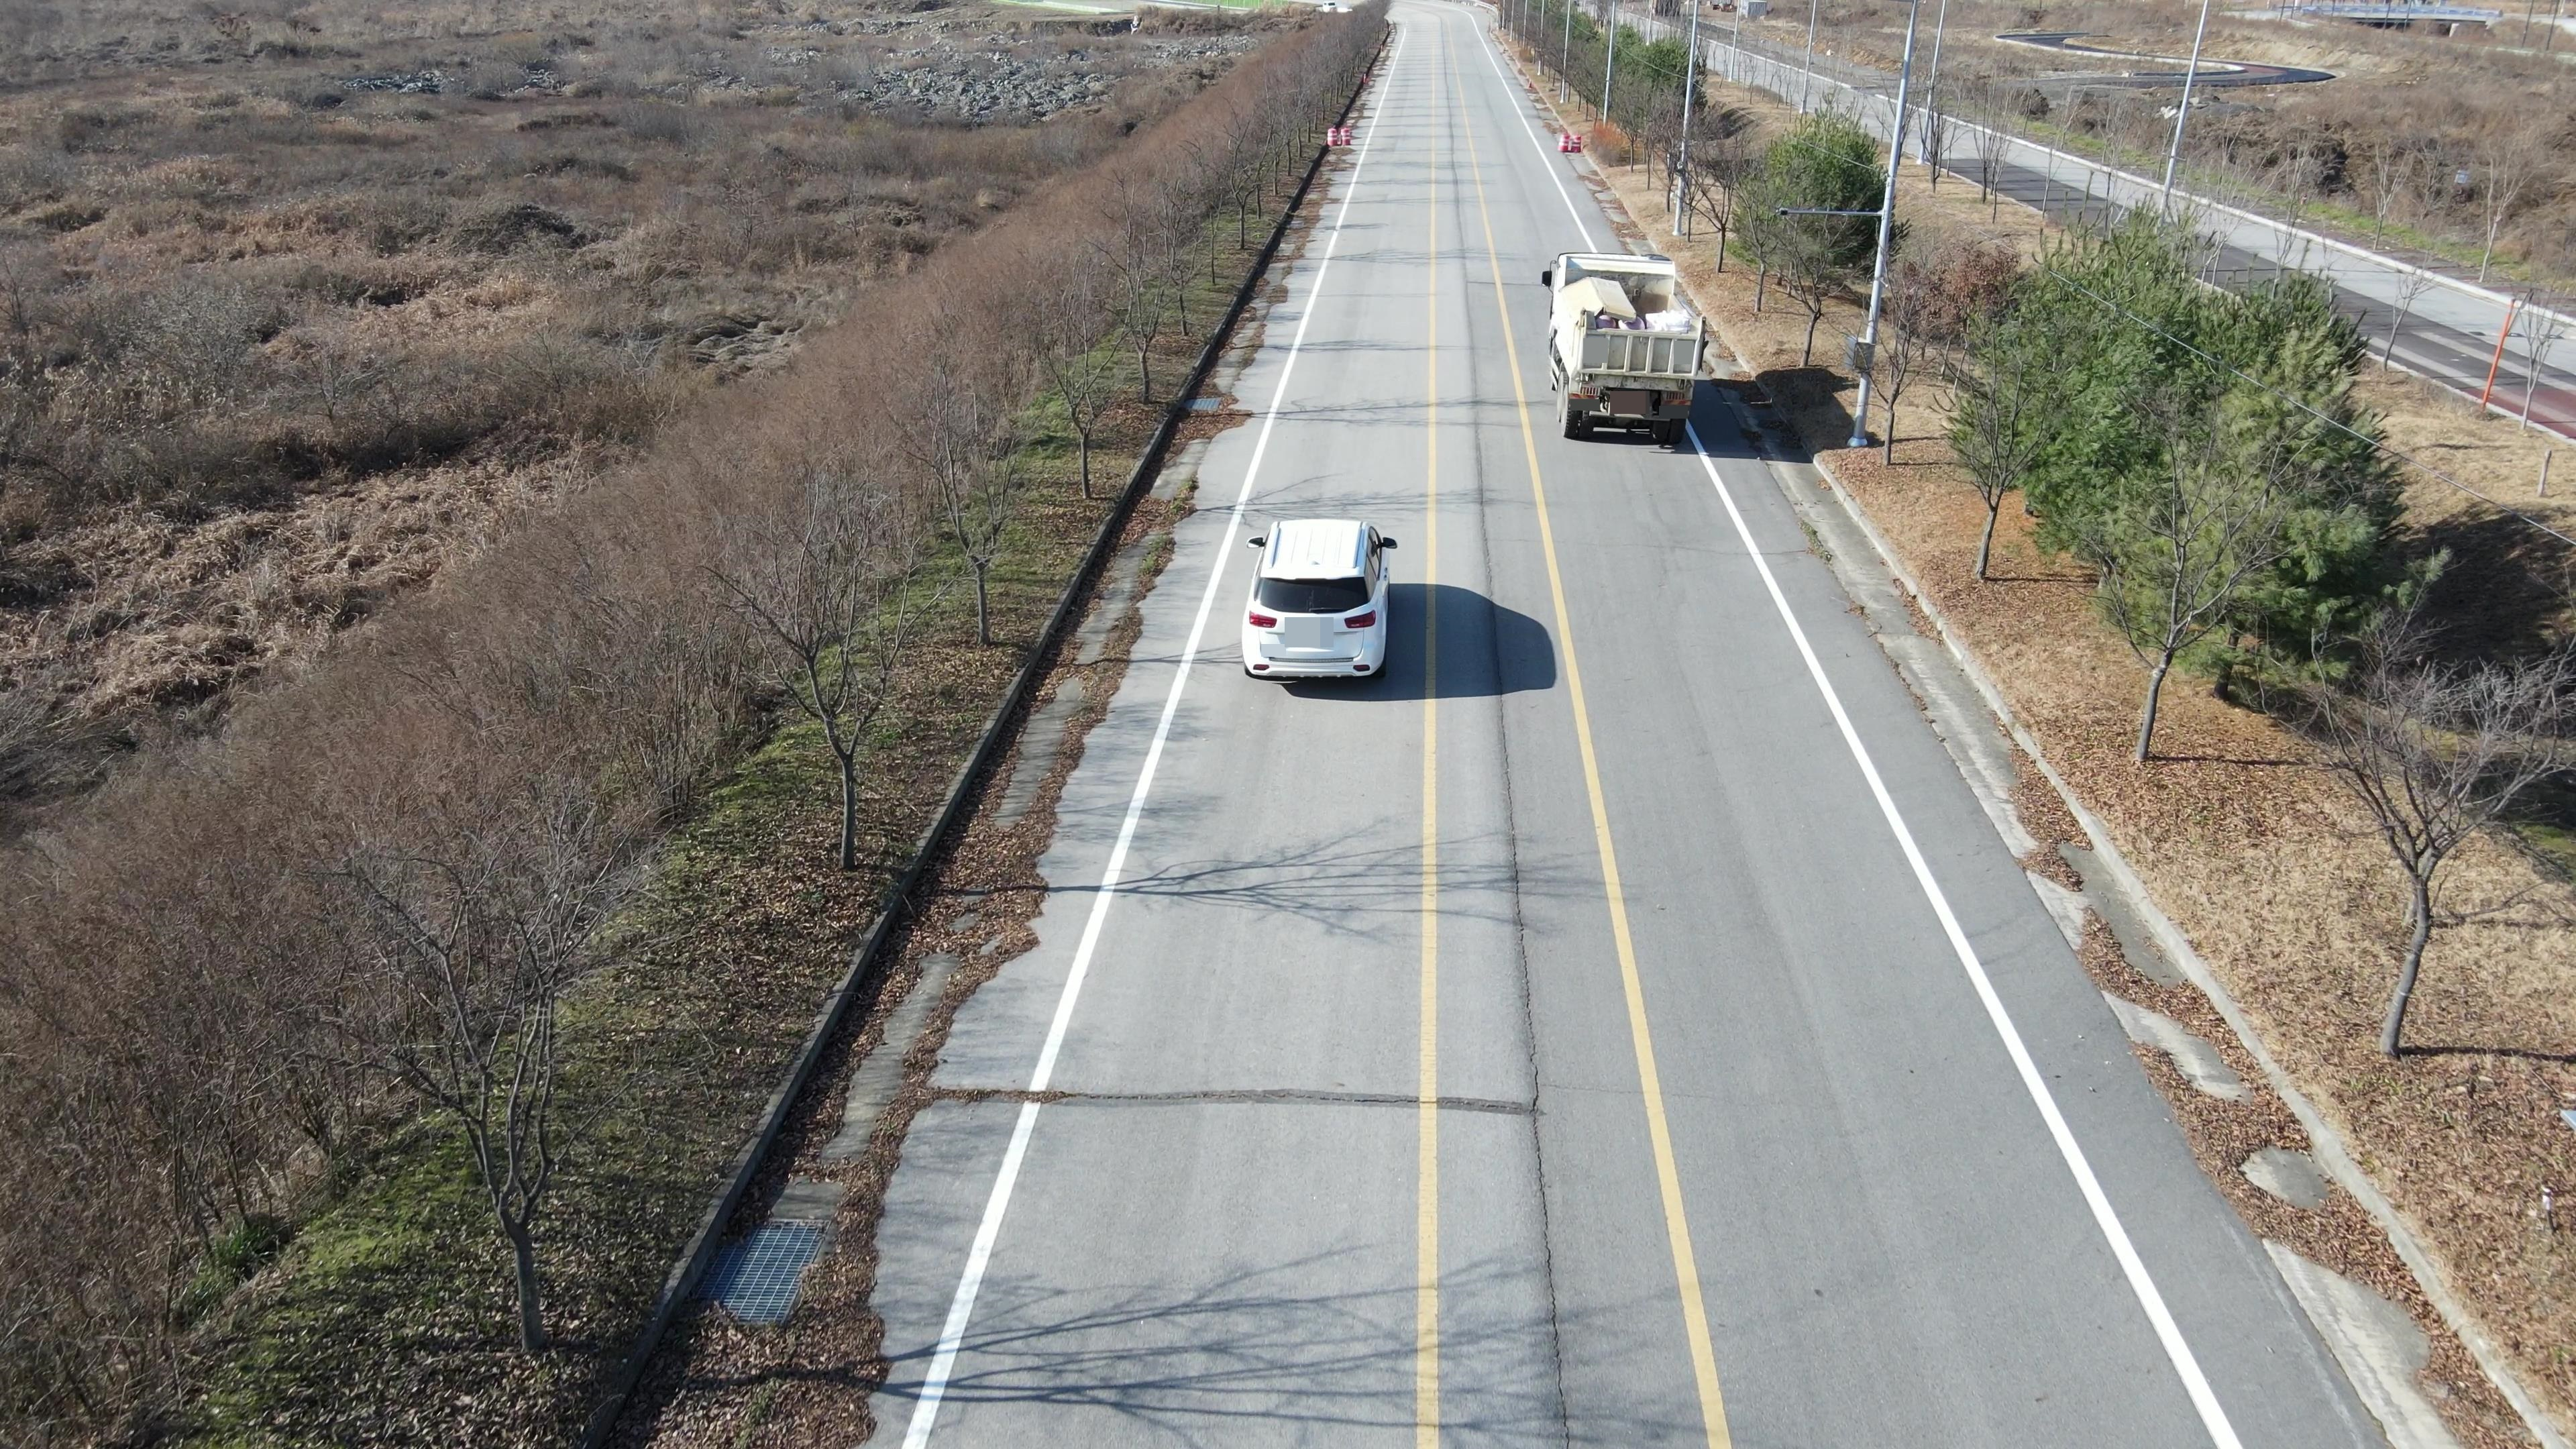불법차량: (1541, 249, 1709, 446)
